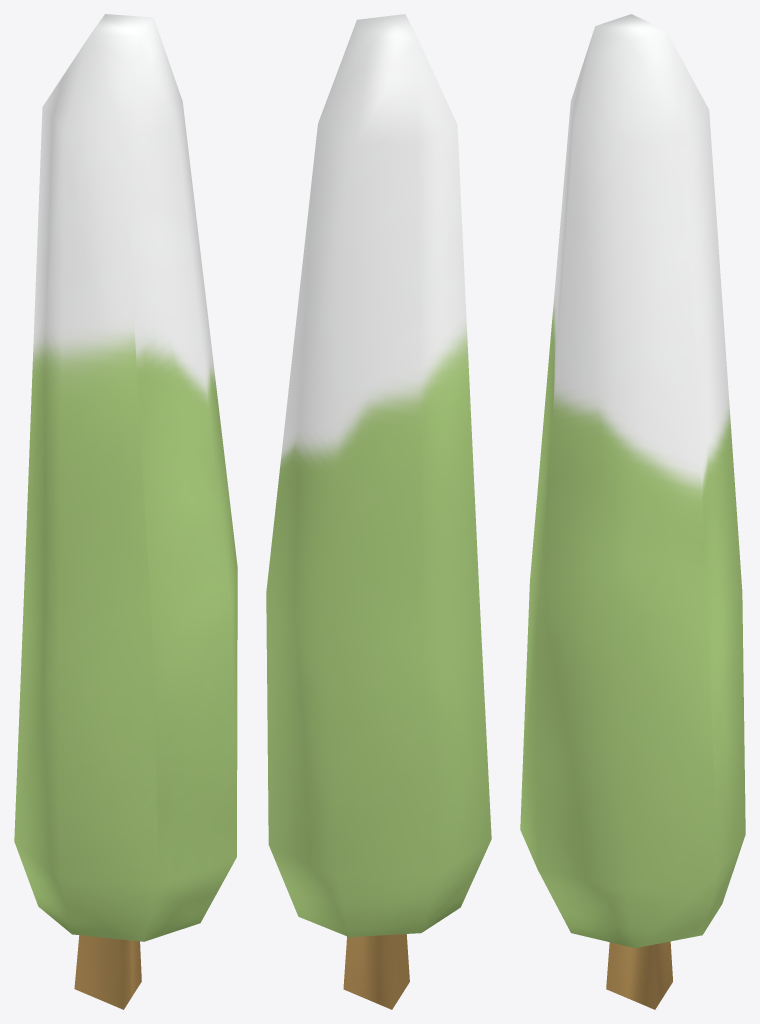
3 renders of one model, left to right at view 1: azimuth 30°, elevation 25°; view 2: azimuth 150°, elevation 25°; view 3: azimuth 270°, elevation 25°, orthographic.
Parts seen in each view (by area): view 1: wLODtuya; view 2: wLODtuya; view 3: wLODtuya.
Boxes of the visible parts, left/top/right/bottom form: wLODtuya: left=14, top=14, right=237, bottom=1009; wLODtuya: left=266, top=14, right=491, bottom=1009; wLODtuya: left=520, top=14, right=745, bottom=1009.
Size of the model in its own units: 4.11 by 19.77 by 4.17.
1 material, 1 textured.
